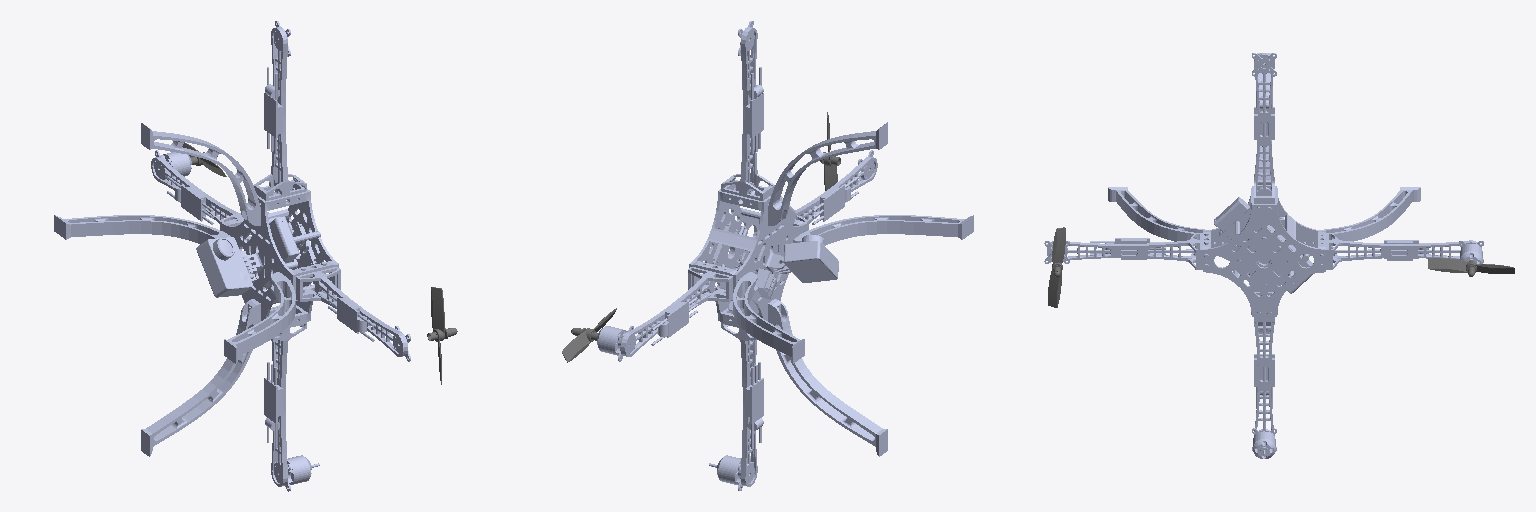
robot.urdf — QUADCOPTER TOGETHER2:
<?xml version="1.0" encoding="utf-8"?>
<!-- This URDF was automatically created by SolidWorks to URDF Exporter! Originally created by [author] ([email redacted]) 
     Commit Version: 1.6.0-4-g7f85cfe  Build Version: 1.6.7995.38578
     For more information, please see http://wiki.ros.org/sw_urdf_exporter -->
<robot
  name="QUADCOPTER TOGETHER2">
  <link
    name="Drone_body">
    <inertial>
      <origin
        xyz="-0.0474055531202199 0.00715391152308867 -0.00672361192816448"
        rpy="0 0 0" />
      <mass
        value="0.512300127571738" />
      <inertia
        ixx="0.000923714747786489"
        ixy="-1.43645737951548E-06"
        ixz="1.57613324782888E-06"
        iyy="0.00073318072047806"
        iyz="4.67085905863603E-05"
        izz="0.000727405190937061" />
    </inertial>
    <visual>
      <origin
        xyz="0 0 0"
        rpy="0 0 0" />
      <geometry>
        <mesh
          filename="package://QUADCOPTER TOGETHER2/meshes/Drone_body.STL" />
      </geometry>
      <material
        name="">
        <color
          rgba="0.792156862745098 0.819607843137255 0.933333333333333 1" />
      </material>
    </visual>
    <collision>
      <origin
        xyz="0 0 0"
        rpy="0 0 0" />
      <geometry>
        <mesh
          filename="package://QUADCOPTER TOGETHER2/meshes/Drone_body_col.STL" />
      </geometry>
    </collision>
  </link>
  <link
    name="Motor1">
    <inertial>
      <origin
        xyz="-0.0047604 -0.00018467 1.7397E-05"
        rpy="0 0 0" />
      <mass
        value="0.0055956" />
      <inertia
        ixx="3.3279E-06"
        ixy="1.1715E-11"
        ixz="1.2262E-10"
        iyy="3.2871E-06"
        iyz="-2.9847E-07"
        izz="1.4812E-07" />
    </inertial>
    <visual>
      <origin
        xyz="0 0 0"
        rpy="0 0 0" />
      <geometry>
        <mesh
          filename="package://QUADCOPTER TOGETHER2/meshes/Motor1.STL" />
      </geometry>
      <material
        name="">
        <color
          rgba="0.50196 0.50196 0.50196 1" />
      </material>
    </visual>
    <collision>
      <origin
        xyz="0 0 0"
        rpy="0 0 0" />
      <geometry>
        <mesh
          filename="package://QUADCOPTER TOGETHER2/meshes/Motor1_col.STL" />
      </geometry>
    </collision>
  </link>
  <joint
    name="Motor1_cont"
    type="continuous">
    <origin
      xyz="0.0322499999999999 -0.251499999999997 0"
      rpy="0 0 0" />
    <parent
      link="Drone_body" />
    <child
      link="Motor1" />
    <axis
      xyz="1 0 0" />
  </joint>
  <link
    name="Motor2">
    <inertial>
      <origin
        xyz="-0.0047604 1.744E-05 0.00018466"
        rpy="0 0 0" />
      <mass
        value="0.0055956" />
      <inertia
        ixx="3.3279E-06"
        ixy="1.2262E-10"
        ixz="-1.1715E-11"
        iyy="1.4812E-07"
        iyz="2.9847E-07"
        izz="3.2871E-06" />
    </inertial>
    <visual>
      <origin
        xyz="0 0 0"
        rpy="0 0 0" />
      <geometry>
        <mesh
          filename="package://QUADCOPTER TOGETHER2/meshes/Motor2.STL" />
      </geometry>
      <material
        name="">
        <color
          rgba="0.50196 0.50196 0.50196 1" />
      </material>
    </visual>
    <collision>
      <origin
        xyz="0 0 0"
        rpy="0 0 0" />
      <geometry>
        <mesh
          filename="package://QUADCOPTER TOGETHER2/meshes/Motor2_col.STL" />
      </geometry>
    </collision>
  </link>
  <joint
    name="Motor2_cont"
    type="continuous">
    <origin
      xyz="0.0322499999999999 0 0.251499998477687"
      rpy="0 0 0" />
    <parent
      link="Drone_body" />
    <child
      link="Motor2" />
    <axis
      xyz="1 0 0" />
  </joint>
  <link
    name="Motor3">
    <inertial>
      <origin
        xyz="-0.0047604 1.744E-05 0.00018472"
        rpy="0 0 0" />
      <mass
        value="0.0055956" />
      <inertia
        ixx="3.3279E-06"
        ixy="1.2262E-10"
        ixz="-1.1715E-11"
        iyy="1.4812E-07"
        iyz="2.9847E-07"
        izz="3.2871E-06" />
    </inertial>
    <visual>
      <origin
        xyz="0 0 0"
        rpy="0 0 0" />
      <geometry>
        <mesh
          filename="package://QUADCOPTER TOGETHER2/meshes/Motor3.STL" />
      </geometry>
      <material
        name="">
        <color
          rgba="0.50196 0.50196 0.50196 1" />
      </material>
    </visual>
    <collision>
      <origin
        xyz="0 0 0"
        rpy="0 0 0" />
      <geometry>
        <mesh
          filename="package://QUADCOPTER TOGETHER2/meshes/Motor3_col.STL" />
      </geometry>
    </collision>
  </link>
  <joint
    name="Motor3_cont"
    type="continuous">
    <origin
      xyz="0.03225 0 -0.2515"
      rpy="0 0 0" />
    <parent
      link="Drone_body" />
    <child
      link="Motor3" />
    <axis
      xyz="1 0 0" />
  </joint>
  <link
    name="Motor4">
    <inertial>
      <origin
        xyz="-0.0047604 1.7409E-05 0.00018469"
        rpy="0 0 0" />
      <mass
        value="0.0055956" />
      <inertia
        ixx="3.3279E-06"
        ixy="1.2262E-10"
        ixz="-1.1715E-11"
        iyy="1.4812E-07"
        iyz="2.9847E-07"
        izz="3.2871E-06" />
    </inertial>
    <visual>
      <origin
        xyz="0 0 0"
        rpy="0 0 0" />
      <geometry>
        <mesh
          filename="package://QUADCOPTER TOGETHER2/meshes/Motor4.STL" />
      </geometry>
      <material
        name="">
        <color
          rgba="0.50196 0.50196 0.50196 1" />
      </material>
    </visual>
    <collision>
      <origin
        xyz="0 0 0"
        rpy="0 0 0" />
      <geometry>
        <mesh
          filename="package://QUADCOPTER TOGETHER2/meshes/Motor4_col.STL" />
      </geometry>
    </collision>
  </link>
  <joint
    name="Motor4_cont"
    type="continuous">
    <origin
      xyz="0.03225 0.2515 0"
      rpy="0 0 0" />
    <parent
      link="Drone_body" />
    <child
      link="Motor4" />
    <axis
      xyz="1 0 0" />
  </joint>
</robot>

--- Render facts (derived) ---
3 views of the same robot in one strip: view 1: azimuth 30°, elevation 25°; view 2: azimuth 150°, elevation 25°; view 3: azimuth 270°, elevation 25° (orthographic).
Model QUADCOPTER TOGETHER2 with 5 links and 4 joints (4 continuous), rooted at Drone_body, posed every joint at zero.
Links seen in each view (by area): view 1: Drone_body, Motor1; view 2: Drone_body, Motor4, Motor1; view 3: Drone_body, Motor4, Motor1.
Link boxes in pixels (<box>): Drone_body: <box>54,21,410,491</box>; Motor1: <box>427,287,457,384</box>; Drone_body: <box>597,21,973,490</box>; Motor4: <box>562,308,616,362</box>; Motor1: <box>820,112,840,190</box>; Drone_body: <box>1044,53,1483,458</box>; Motor4: <box>1428,258,1514,276</box>; Motor1: <box>1048,227,1065,307</box>.
Bounding box of the posed robot: 0.2322 × 0.5719 × 0.5339 m (x, y, z).
Meshes: 5 distinct files referenced, 3 mesh visuals loaded (3 binary STL); not drawn: 2 (reference not matched to a file when rendering).